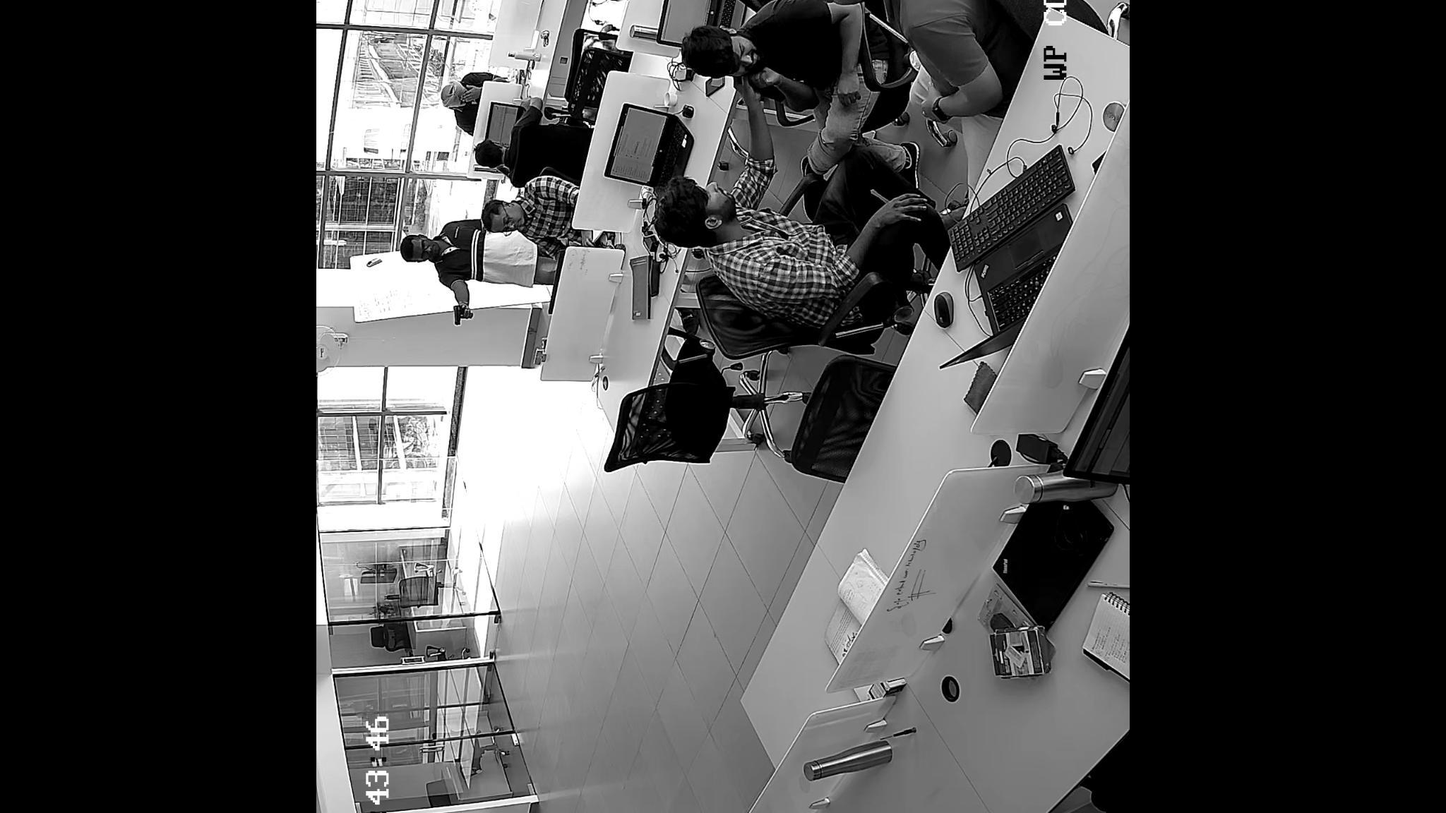gun: (453, 304, 474, 325)
